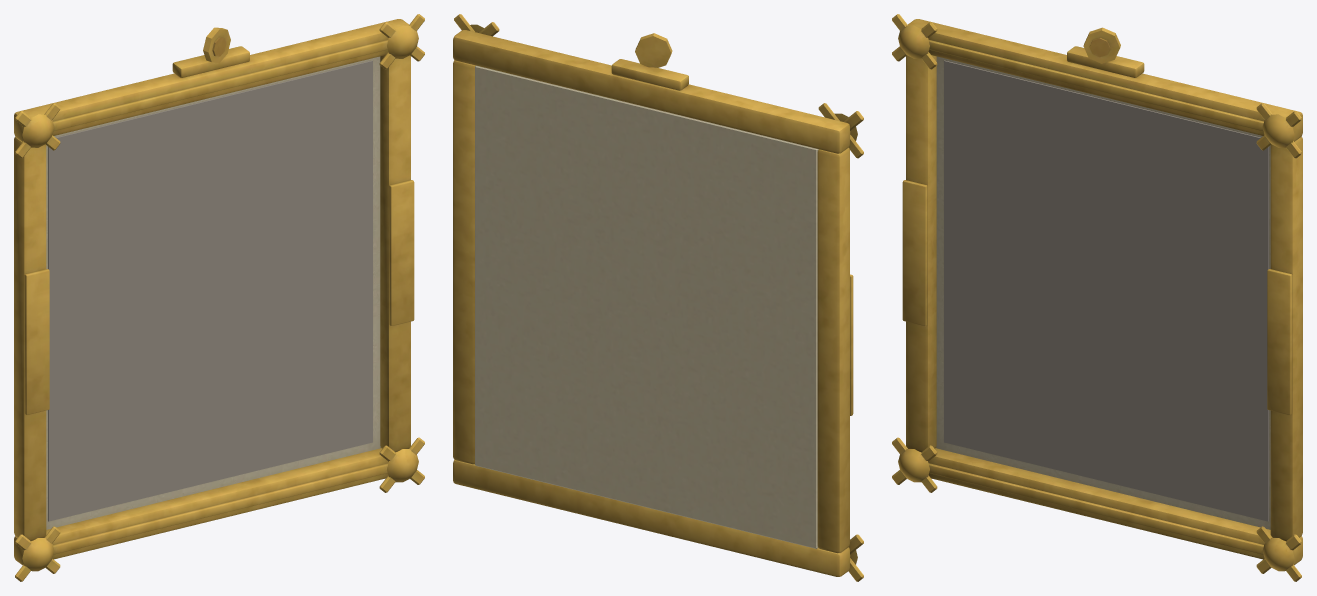
Rendered from frame_painting_m.glb.
The picture shows the model from 3 angles, left to right: view 1: azimuth 30°, elevation 25°; view 2: azimuth 150°, elevation 25°; view 3: azimuth 330°, elevation 25°; orthographic projection.
Parts seen in each view (by area): view 1: canvas, frame_painting_m; view 2: frame_painting_m; view 3: canvas, frame_painting_m.
Boxes of the visible parts, x1,y1,x2,y2 form: canvas: (48,60,372,521); frame_painting_m: (14,14,424,581); frame_painting_m: (453,14,863,581); canvas: (944,60,1268,521); frame_painting_m: (892,14,1302,581).
Size of the model in its own units: 4.09 by 4.78 by 0.325.
Materials: 2 (1 with a texture image).
